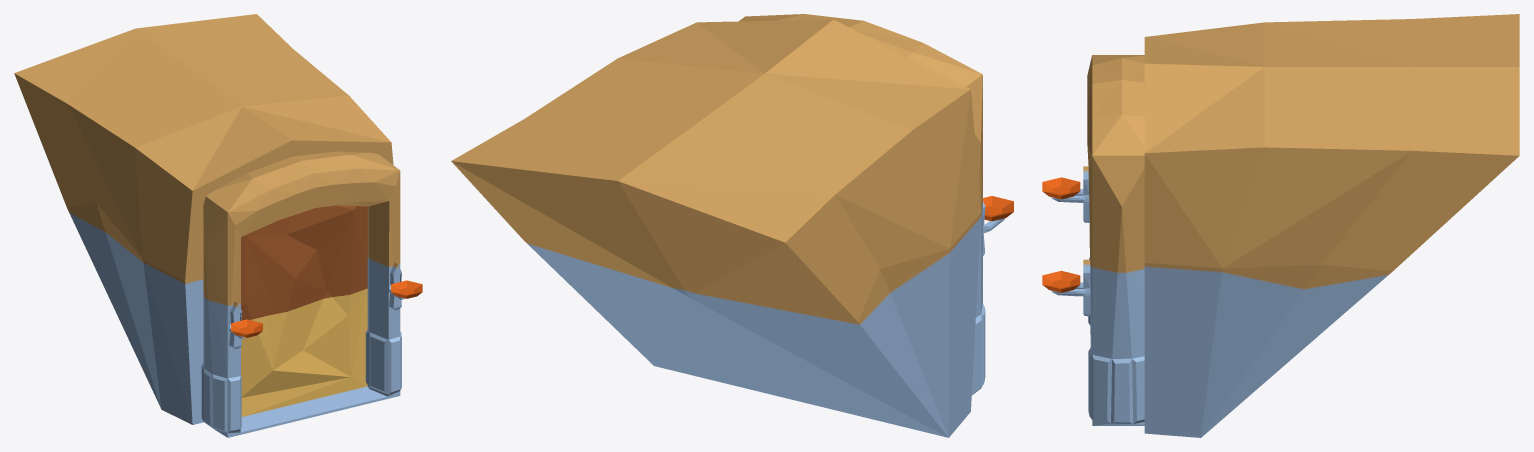
The model's file is PuzzleRoomGateExtended2.fbx.
The picture shows the model from 3 angles, left to right: view 1: azimuth 30°, elevation 25°; view 2: azimuth 150°, elevation 25°; view 3: azimuth 270°, elevation 25°; orthographic projection. The views are drawn at different scales.
Visible parts, largest first — view 1: PuzzleRoomGate:PuzzleRoomGateExtended; view 2: PuzzleRoomGate:PuzzleRoomGateExtended; view 3: PuzzleRoomGate:PuzzleRoomGateExtended.
Part boxes in pixels (x1=…): PuzzleRoomGate:PuzzleRoomGateExtended: x1=14, y1=14, x2=422, y2=437; PuzzleRoomGate:PuzzleRoomGateExtended: x1=451, y1=14, x2=1013, y2=437; PuzzleRoomGate:PuzzleRoomGateExtended: x1=1042, y1=14, x2=1519, y2=437.
Size of the model in its own units: 9.11 by 9.34 by 12.97.
